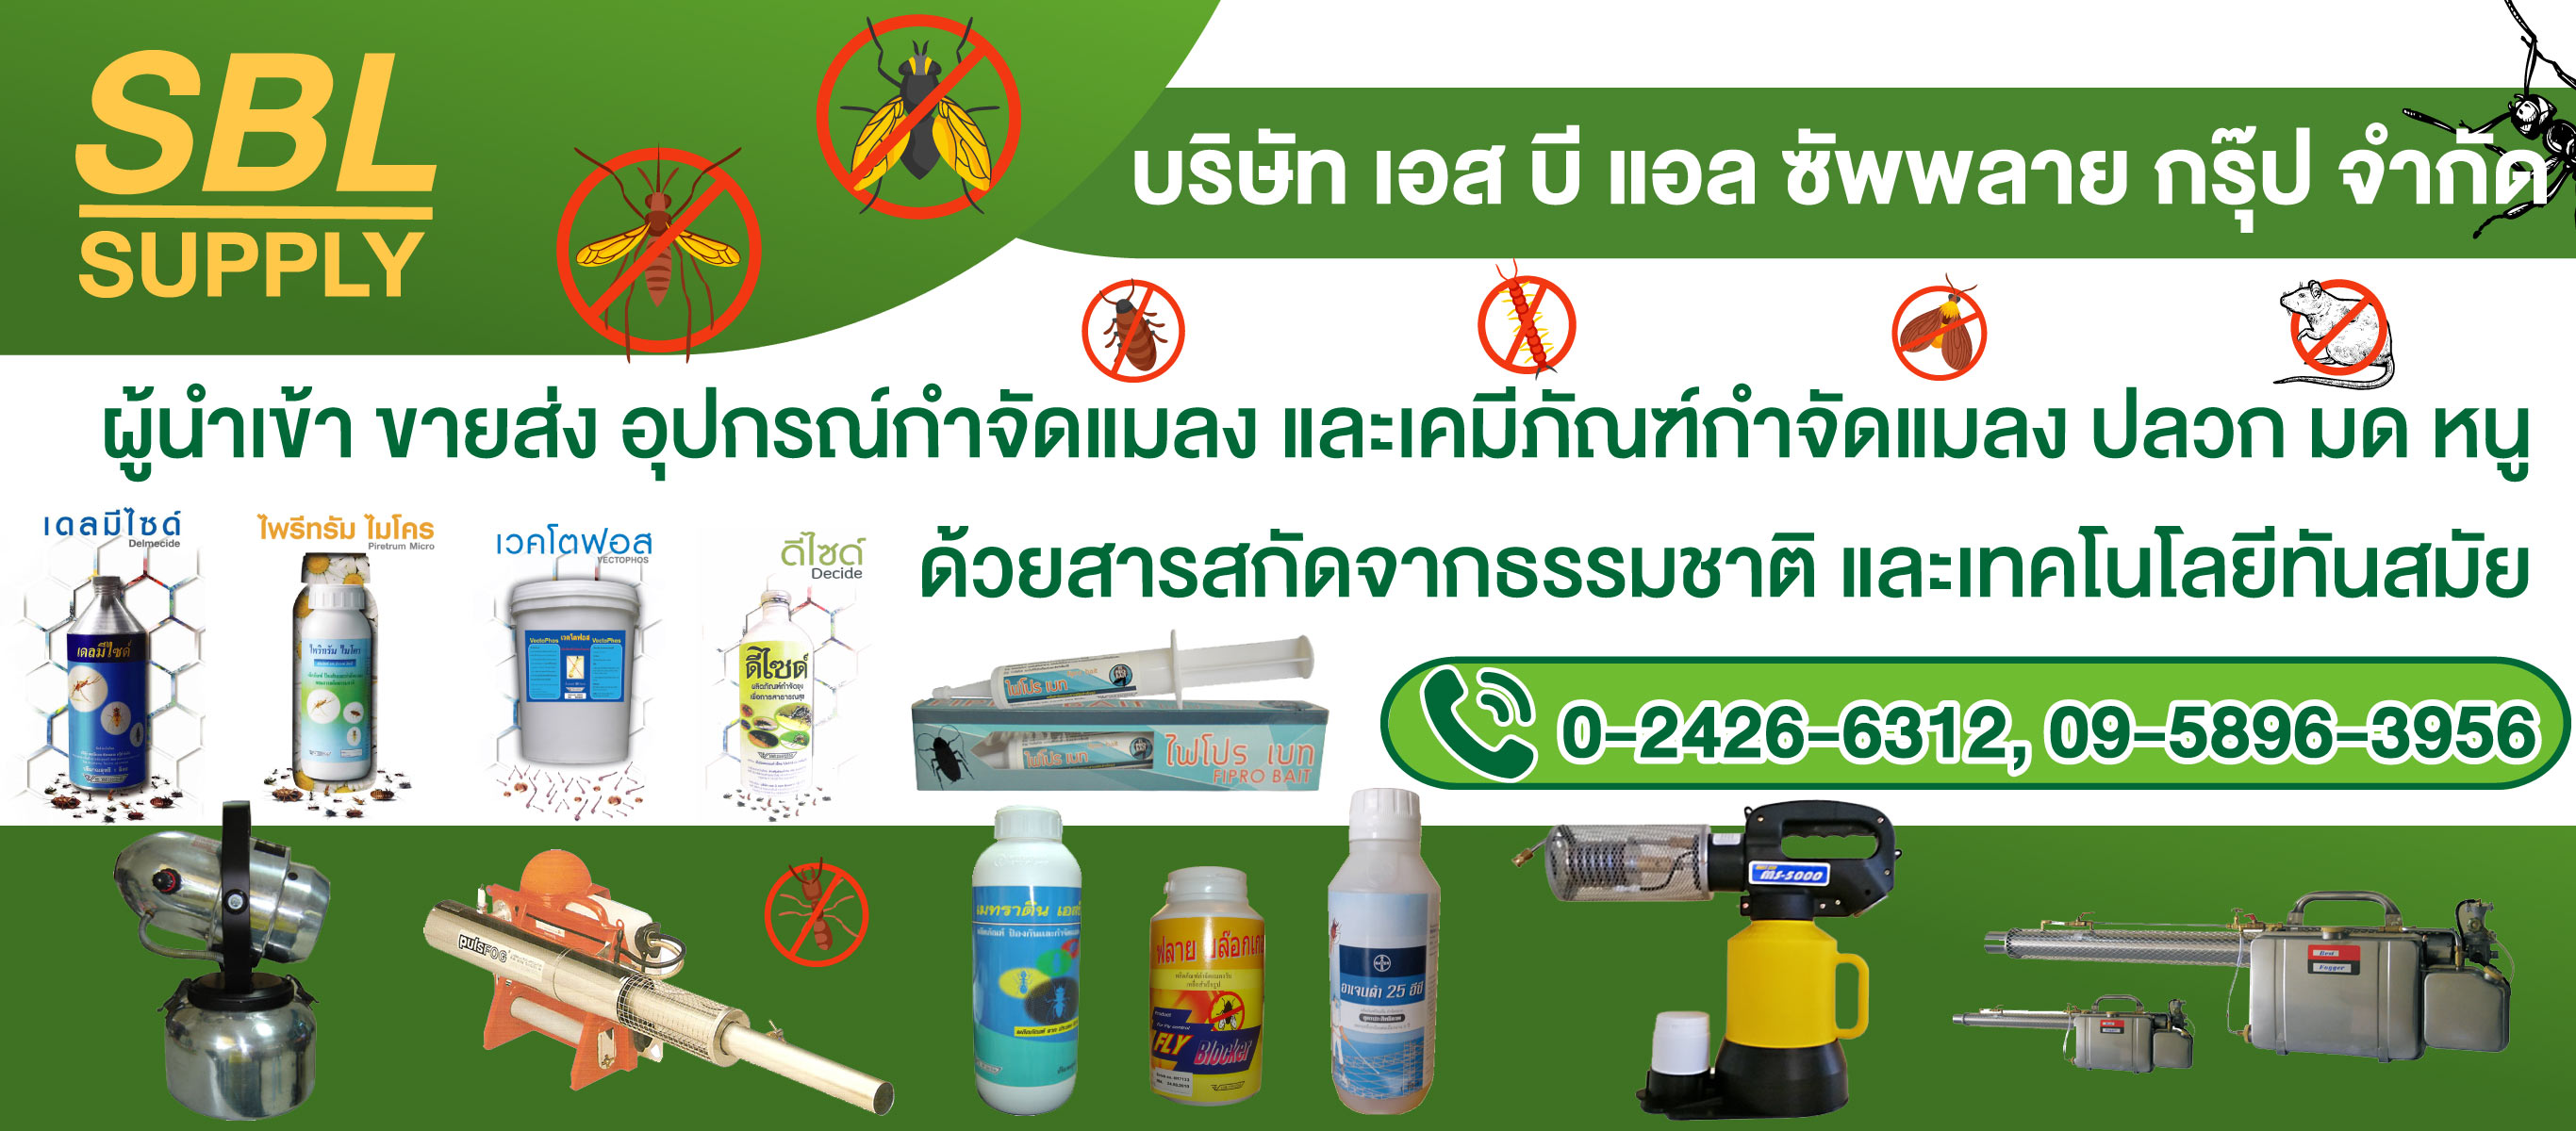Insecticide: (1318, 776, 1451, 1121), (964, 803, 1089, 1123), (1143, 860, 1275, 1115), (499, 570, 649, 785), (49, 568, 168, 809), (734, 579, 825, 813), (289, 576, 384, 793)
